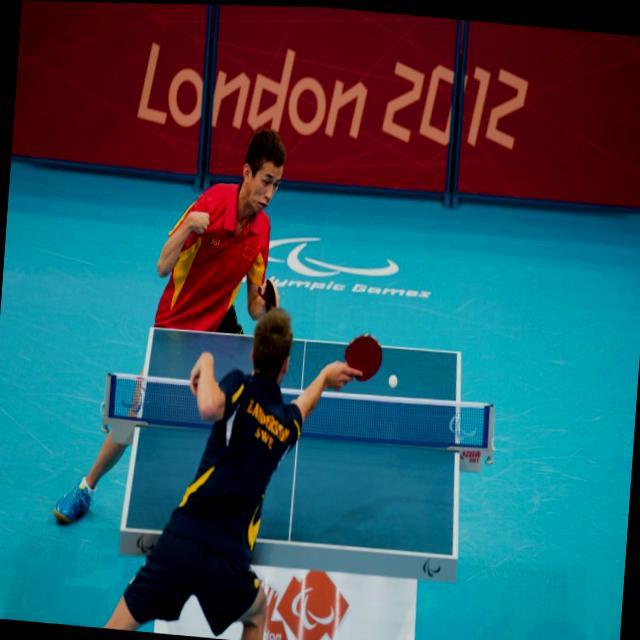TT Net: (100, 370, 495, 463)
TT Racket: (336, 325, 390, 389), (264, 275, 282, 313)
TT Table: (118, 324, 460, 562)
